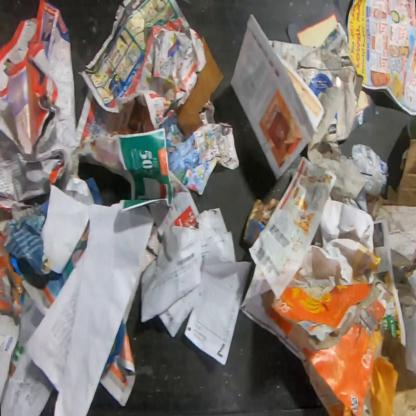cardboard: (266, 283, 376, 416), (296, 48, 364, 142), (176, 35, 225, 139), (366, 138, 415, 222), (381, 329, 415, 415), (373, 204, 415, 266), (395, 268, 416, 307)
soft_plastic: (401, 304, 415, 376)
